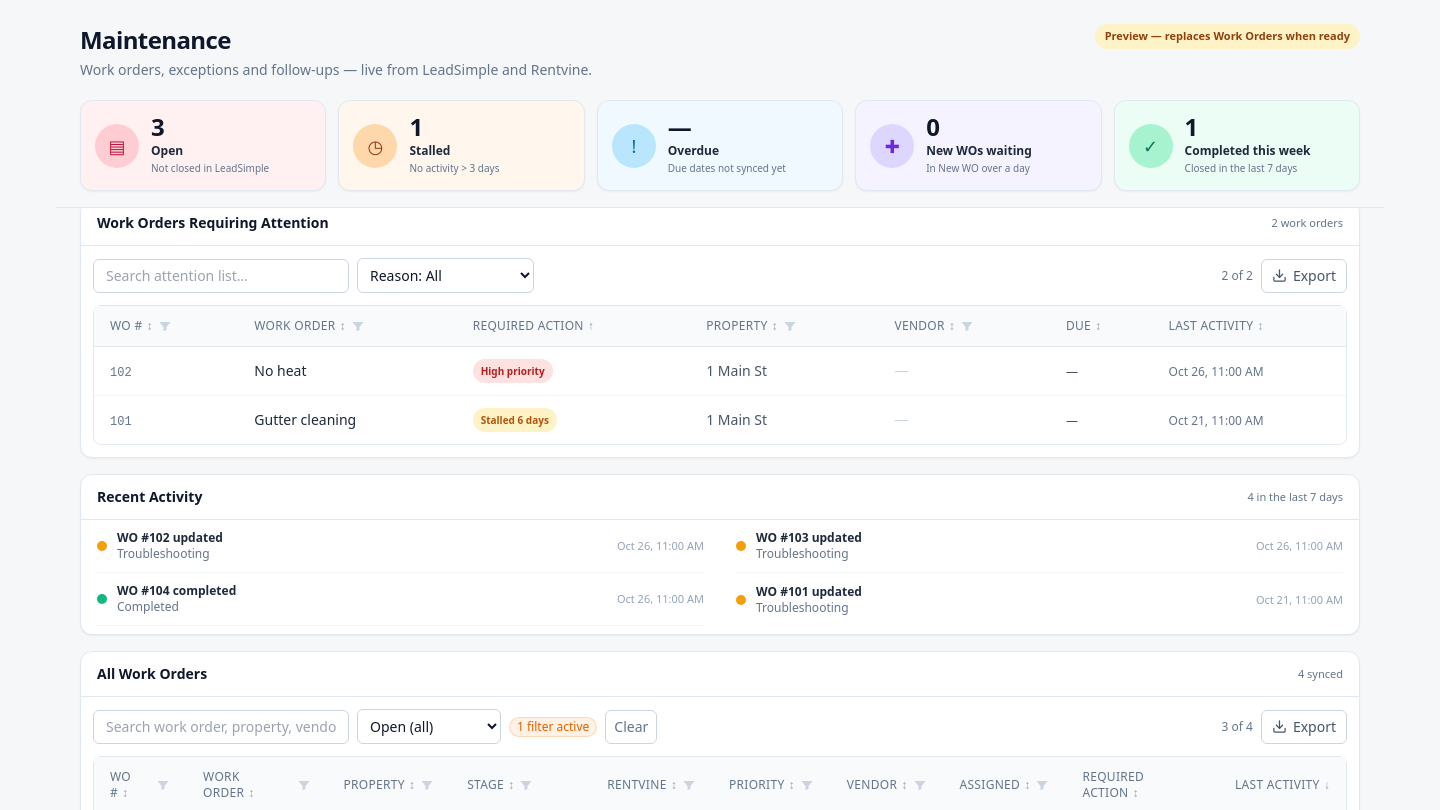
MaintenanceView › defaults the full list to open work orders and can show completed ones
Expected: the text "Roof leak" is not shown
Select "Completed" in the dropdown named "status": (429, 726) x1=357 y1=709 x2=501 y2=744
(page scrolled)
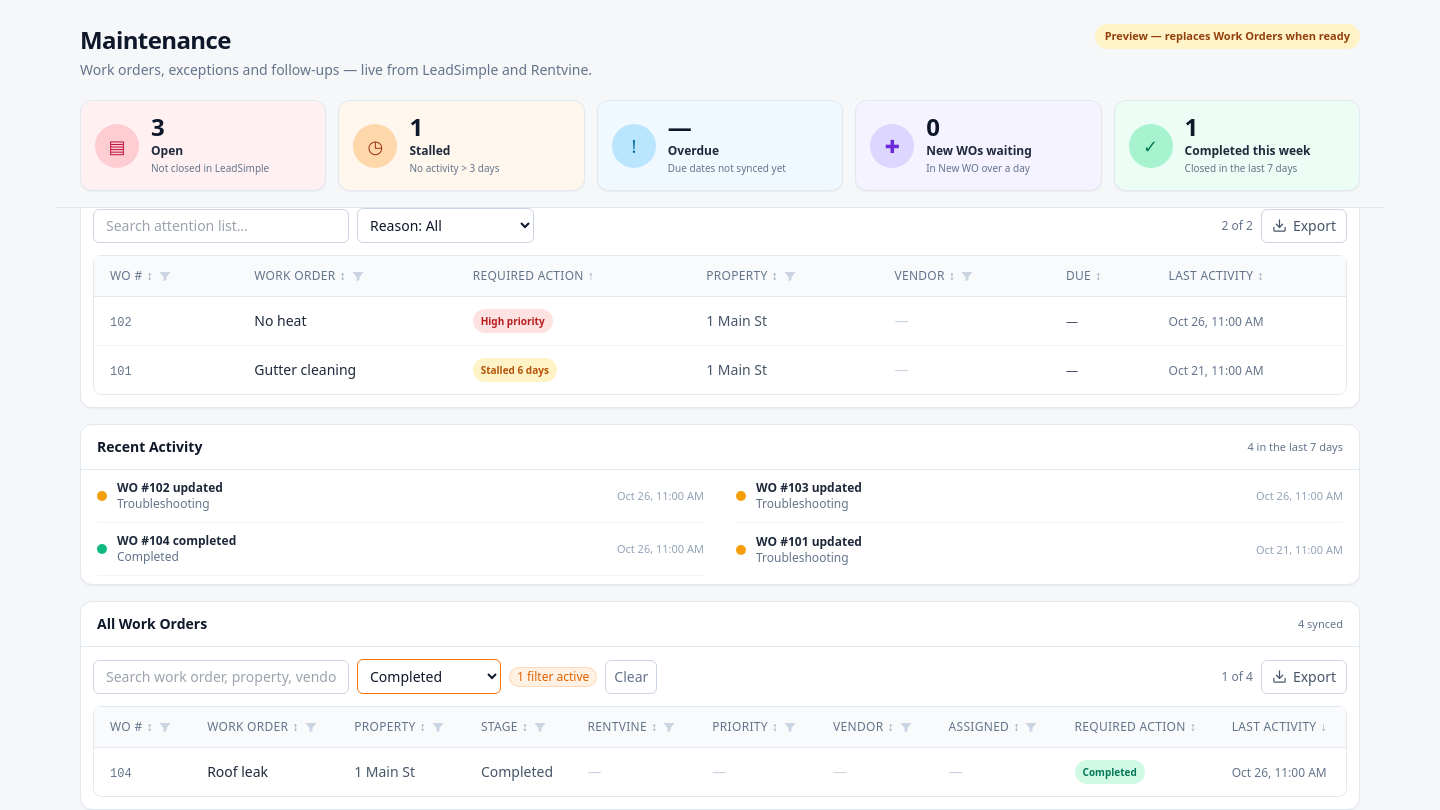
Expected: the text "Roof leak" is shown, x1=207 y1=762 x2=268 y2=781
